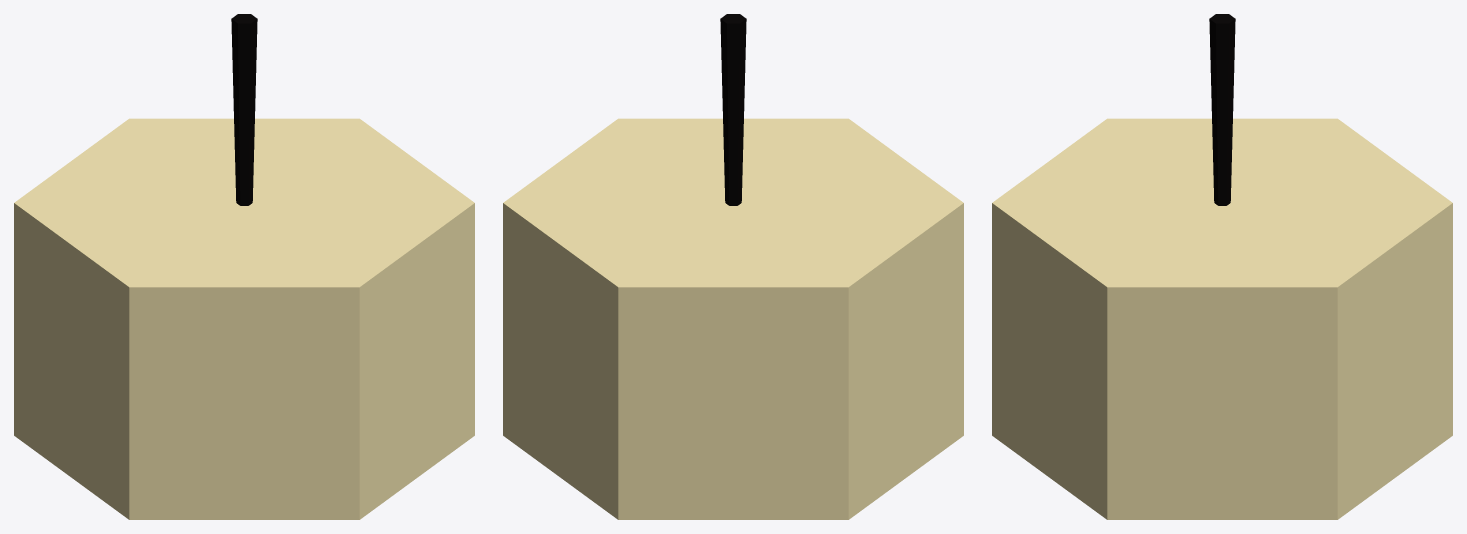
Rendered from candle.001.fbx.
The picture shows the model from 3 angles, left to right: view 1: azimuth 30°, elevation 25°; view 2: azimuth 150°, elevation 25°; view 3: azimuth 270°, elevation 25°; orthographic projection.
Parts seen in each view (by area): view 1: candle.001; view 2: candle.001; view 3: candle.001.
Part boxes in pixels (box(x1,y1,x2,y2)): candle.001: box(14, 14, 474, 519); candle.001: box(503, 14, 963, 519); candle.001: box(992, 14, 1452, 519).
Size of the model in its own units: 7.14 by 8.23 by 8.25.
